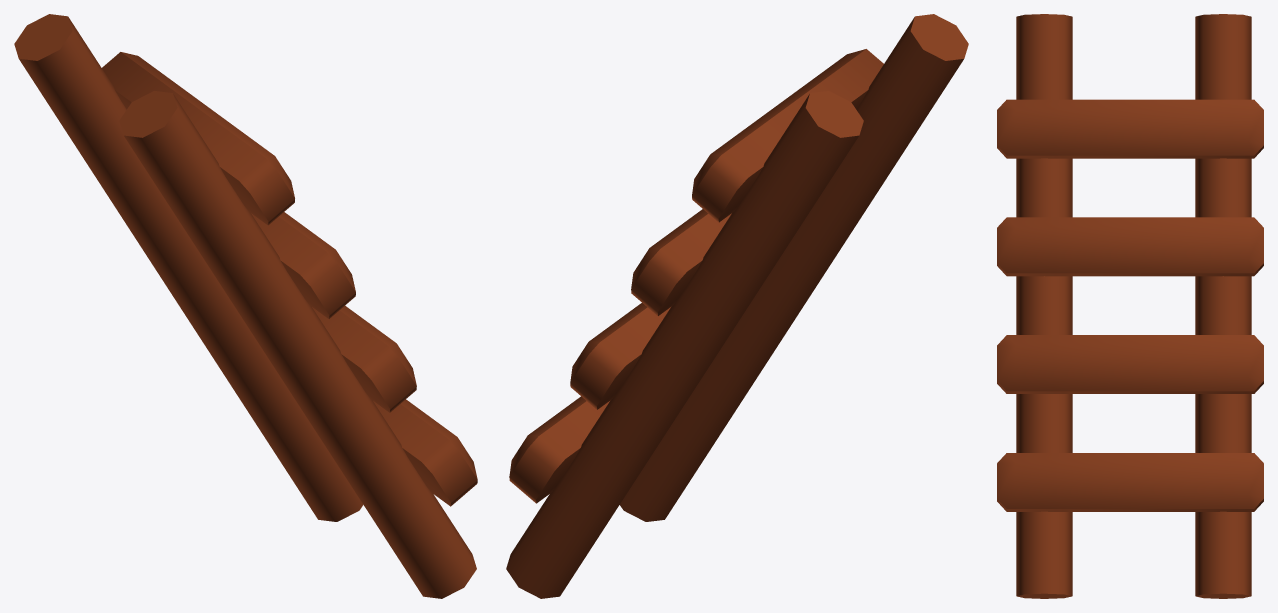
Rendered from ladder.glb.
3 views of the same model, side by side, from view 1: azimuth 30°, elevation 25°; view 2: azimuth 150°, elevation 25°; view 3: azimuth 270°, elevation 25° (orthographic). The views are drawn at different scales.
Visible parts, largest first — view 1: ladder; view 2: ladder; view 3: ladder.
Boxes of the visible parts, x1,y1,x2,y2 form: ladder: (14, 14, 477, 598); ladder: (506, 14, 968, 598); ladder: (997, 14, 1263, 598).
Bounding box in the file's own units: 1.32 × 2.05 × 1.03.
1 material, 1 textured.
